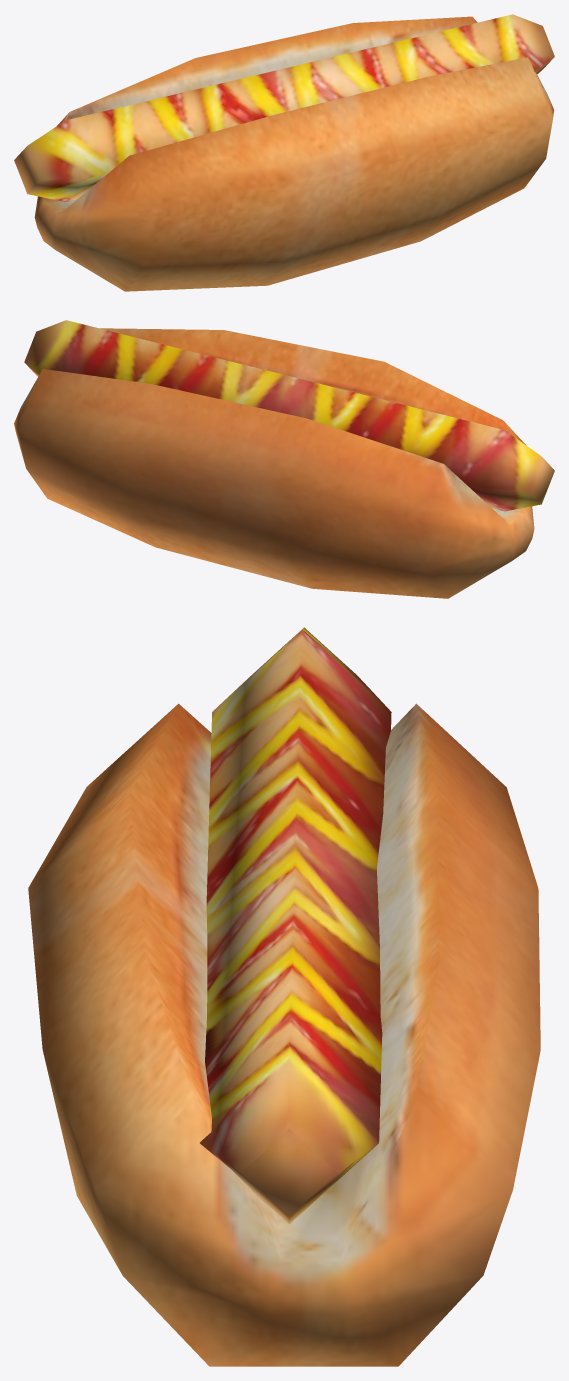
File: Hotdog.dae
The picture shows the model from 3 angles, top to bottom: view 1: azimuth 30°, elevation 25°; view 2: azimuth 150°, elevation 25°; view 3: azimuth 270°, elevation 25°; orthographic projection. The views are drawn at different scales.
Parts seen in each view (by area): view 1: Hotdog; view 2: Hotdog; view 3: Hotdog.
Part boxes in pixels (left/top/right/bottom): Hotdog: left=14, top=14, right=554, bottom=291; Hotdog: left=14, top=320, right=554, bottom=598; Hotdog: left=28, top=627, right=540, bottom=1366.
Size of the model in its own units: 0.2711 by 0.1167 by 0.089.
Materials: 1 (1 with a texture image).
